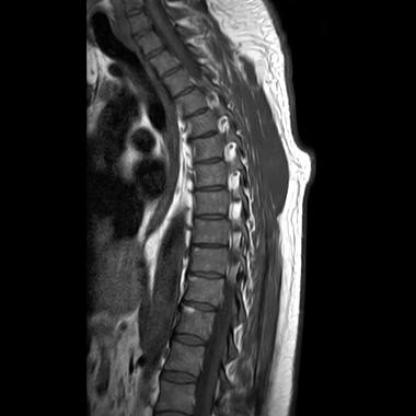Disc Protrusionrotation: (175, 89, 206, 118), (188, 128, 222, 143)
